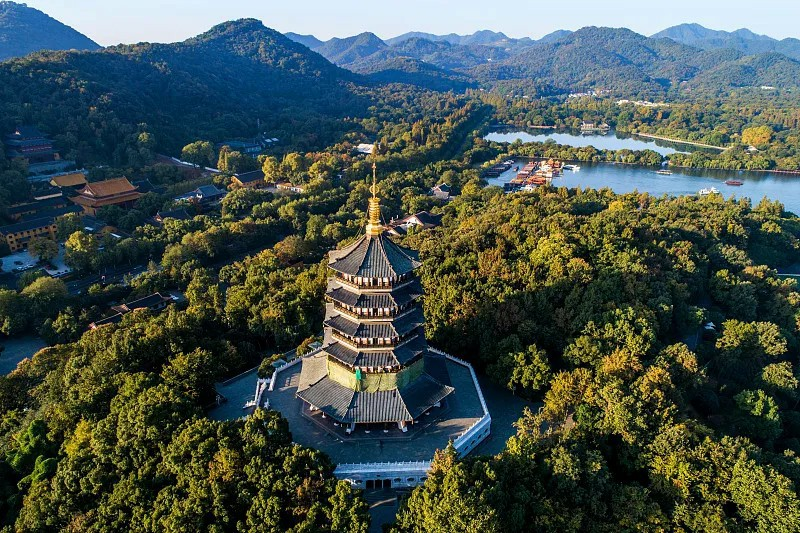Leifeng: (297, 161, 456, 436)
